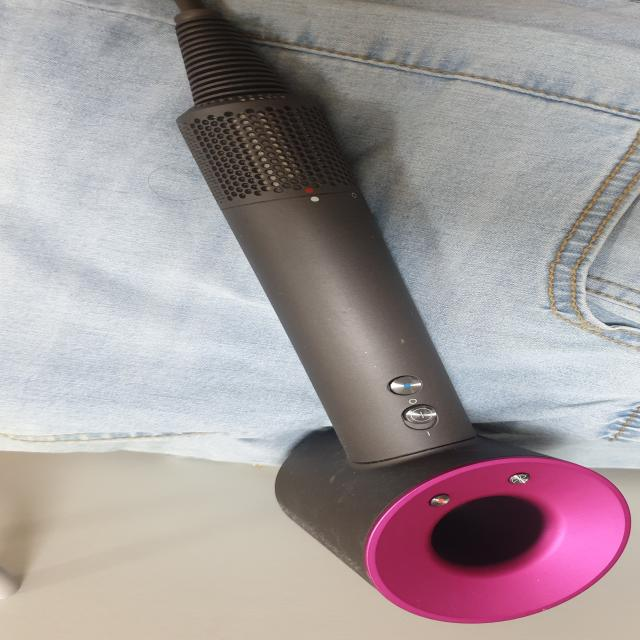dryer: (172, 0, 632, 626)
